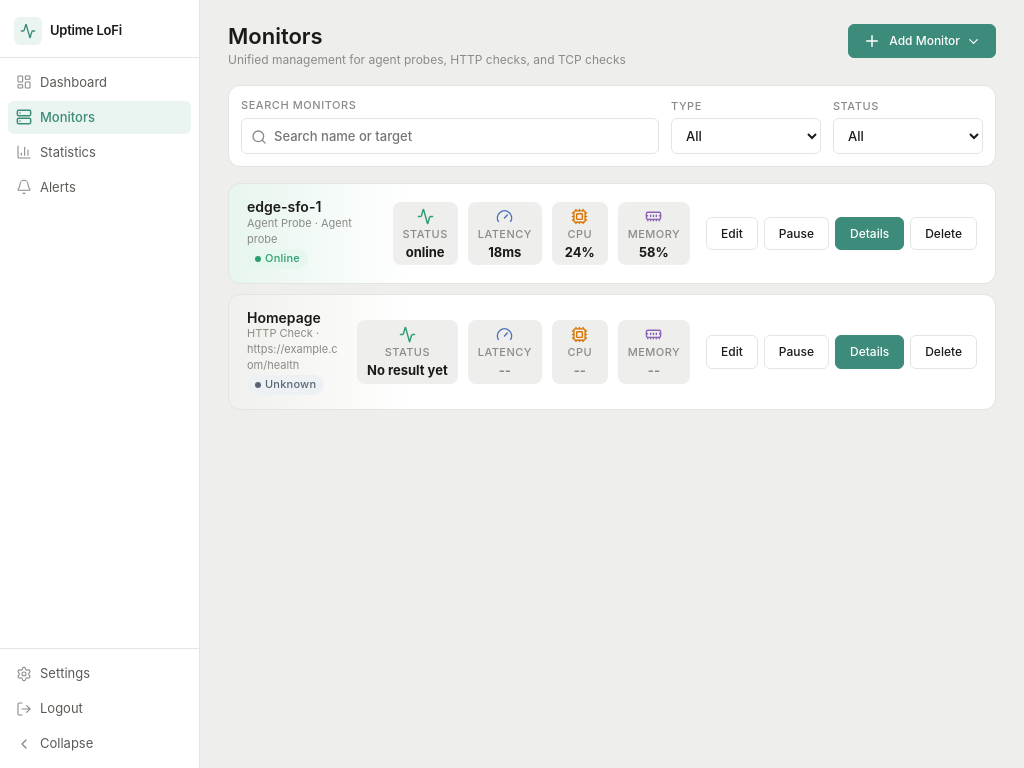
Scenario: Monitors page › opens a compact edit dialog for monitor settings
This screenshot has width=1024, height=768.
Click the button "Monitors".
click(100, 117)  # box [8, 101, 191, 134]
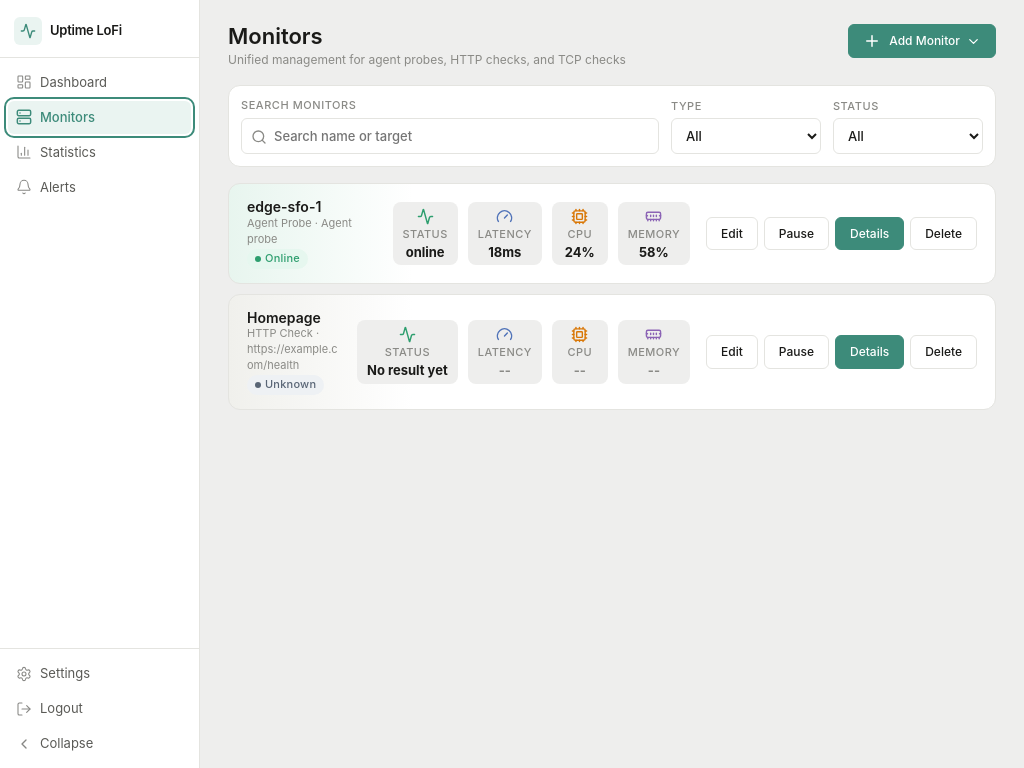
Click the button "Edit" in the row of "58%".
click(732, 234)  # box [706, 217, 758, 250]
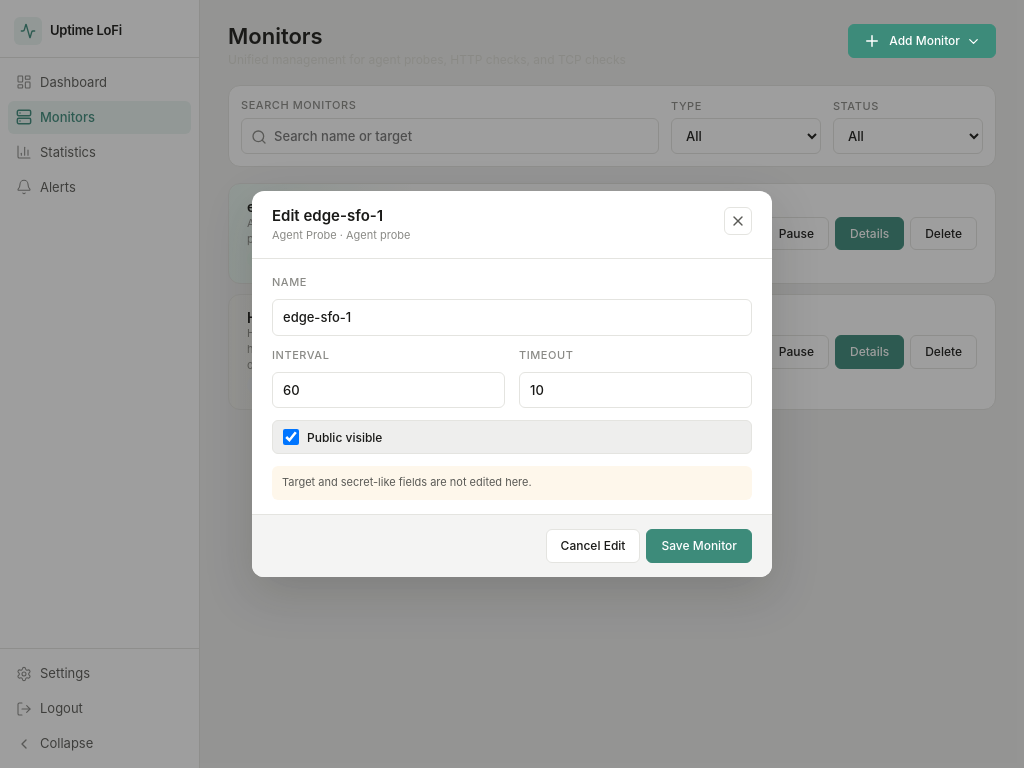
Expected: the field labelled "Name" holds "edge-sfo-1", [272, 299, 752, 336]
Expected: the number field labelled "Interval" holds "60", [272, 372, 505, 408]
Expected: the number field labelled "Timeout" holds "10", [519, 372, 752, 408]
